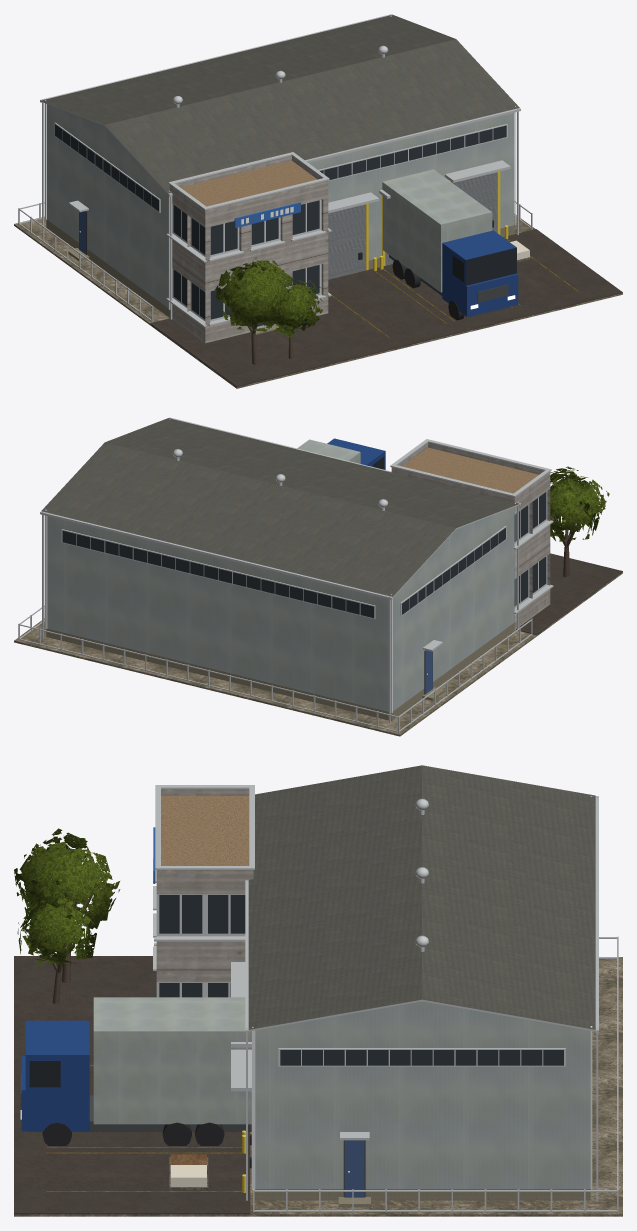
File: warehouse_steel.glb
The picture shows the model from 3 angles, top to bottom: view 1: azimuth 30°, elevation 25°; view 2: azimuth 150°, elevation 25°; view 3: azimuth 270°, elevation 25°; orthographic projection. The views are drawn at different scales.
Parts seen in each view (by area): view 1: warehouse_steel_body, warehouse_steel_foliage; view 2: warehouse_steel_body, warehouse_steel_foliage; view 3: warehouse_steel_body, warehouse_steel_foliage.
Boxes of the visible parts, left/top/right/bottom form: warehouse_steel_body: left=14, top=14, right=622, bottom=388; warehouse_steel_foliage: left=215, top=260, right=322, bottom=337; warehouse_steel_body: left=14, top=417, right=622, bottom=736; warehouse_steel_foliage: left=550, top=466, right=609, bottom=541; warehouse_steel_body: left=14, top=765, right=622, bottom=1216; warehouse_steel_foliage: left=14, top=828, right=120, bottom=965.
Bounding box in the file's own units: 0.94 × 0.3748 × 0.94.
Materials: 32 (14 with a texture image).
